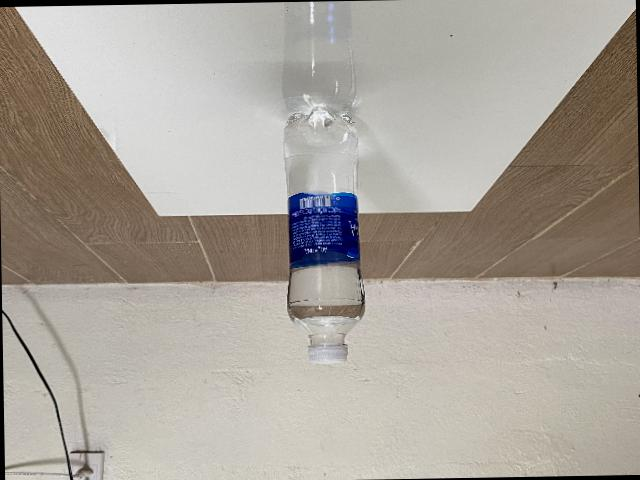aquafina: (283, 103, 365, 363)
